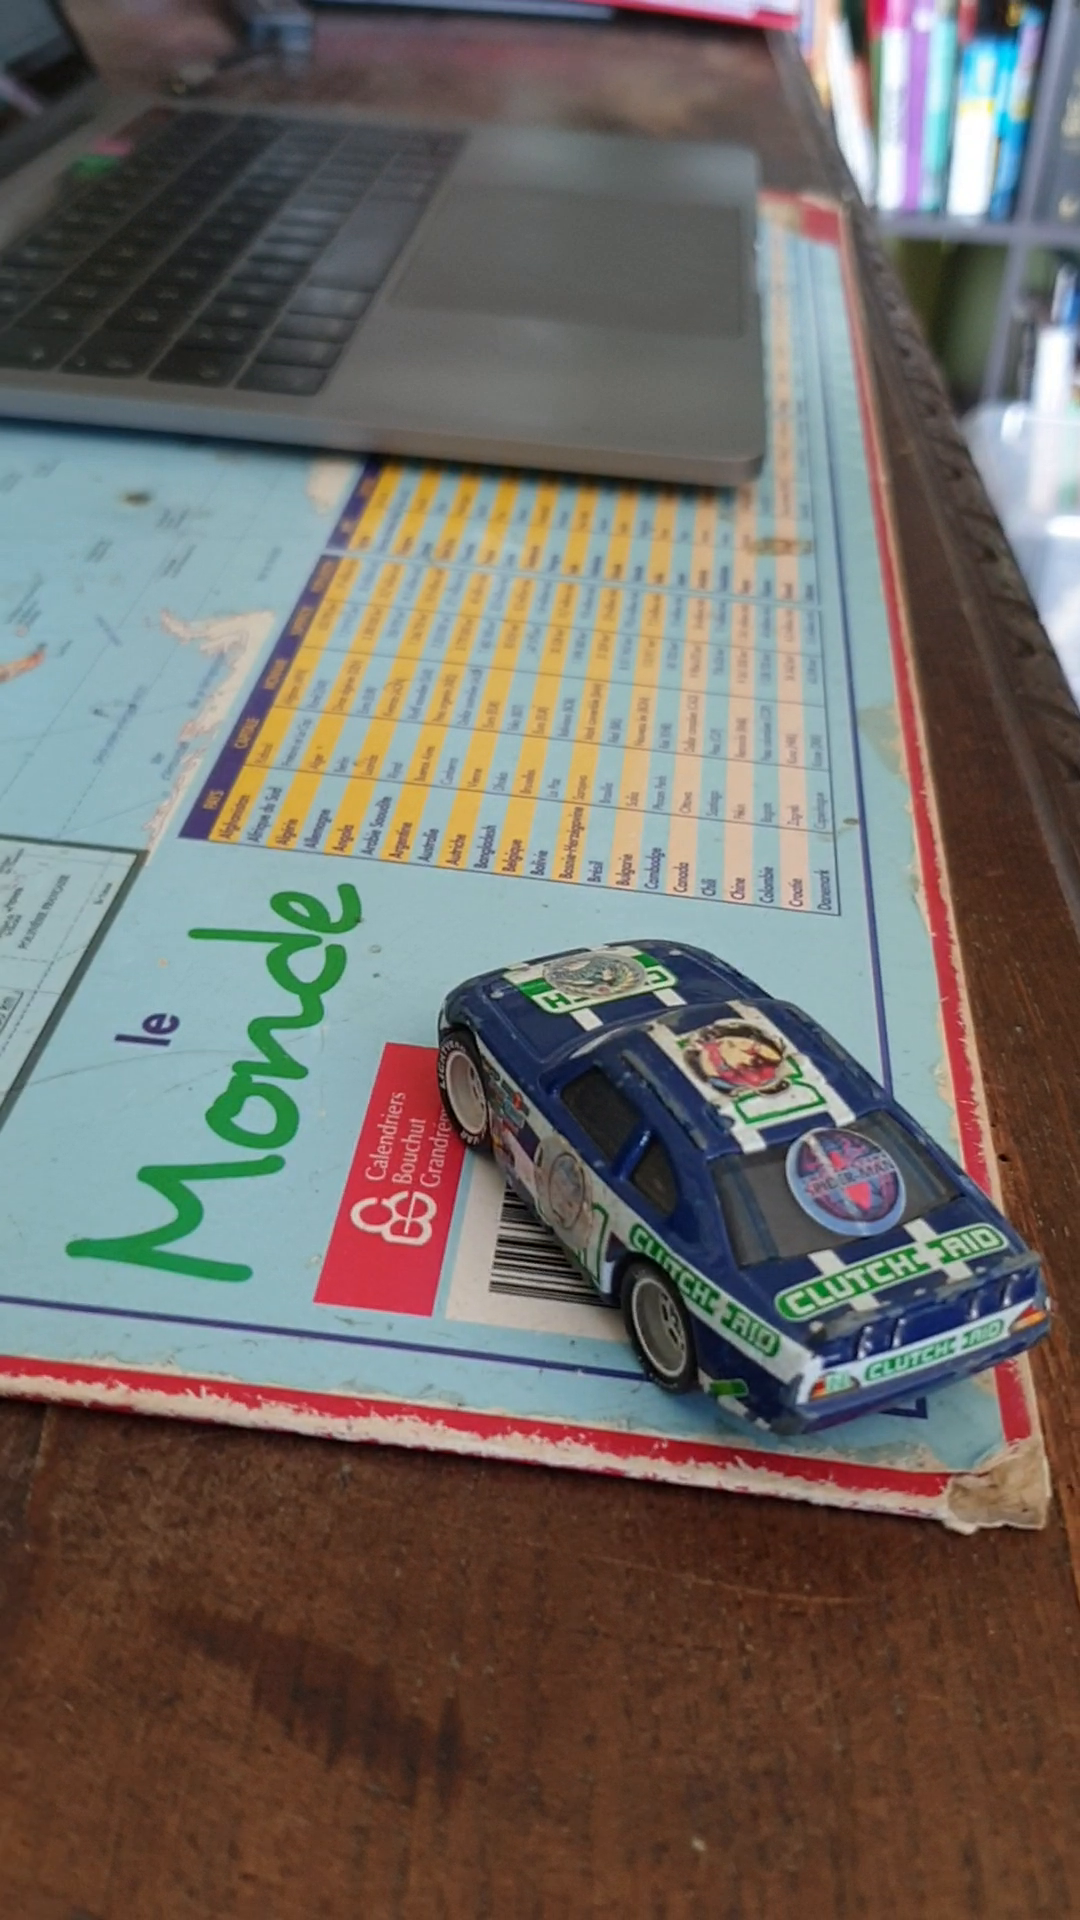cars: (427, 935, 1050, 1439)
